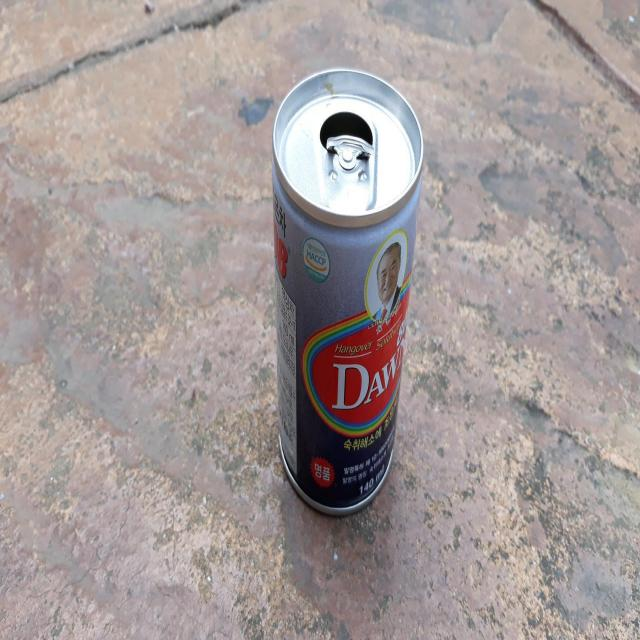can: (273, 67, 424, 515)
